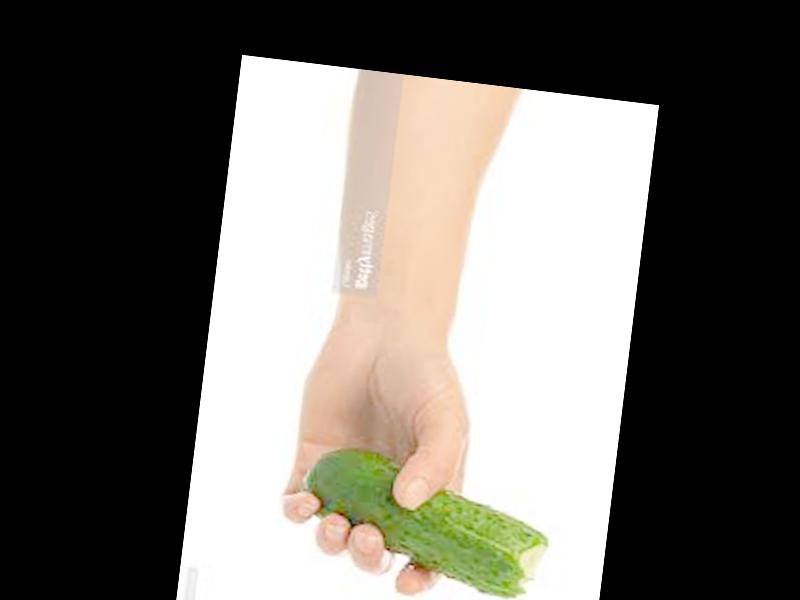Cucumber: (294, 444, 556, 600)
